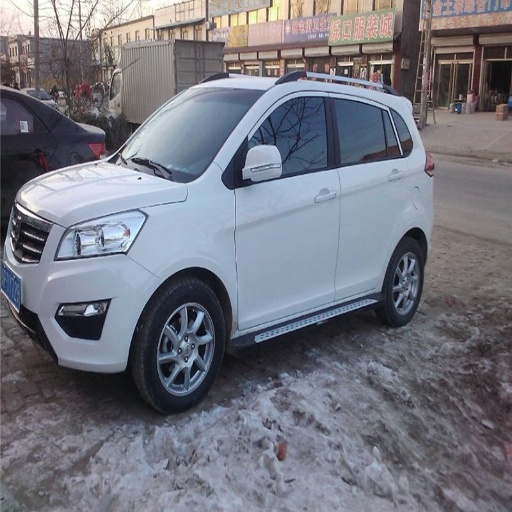front_bumper: (2, 203, 158, 369)
front_glass: (107, 89, 262, 180)
front_left_door: (235, 92, 340, 326)
